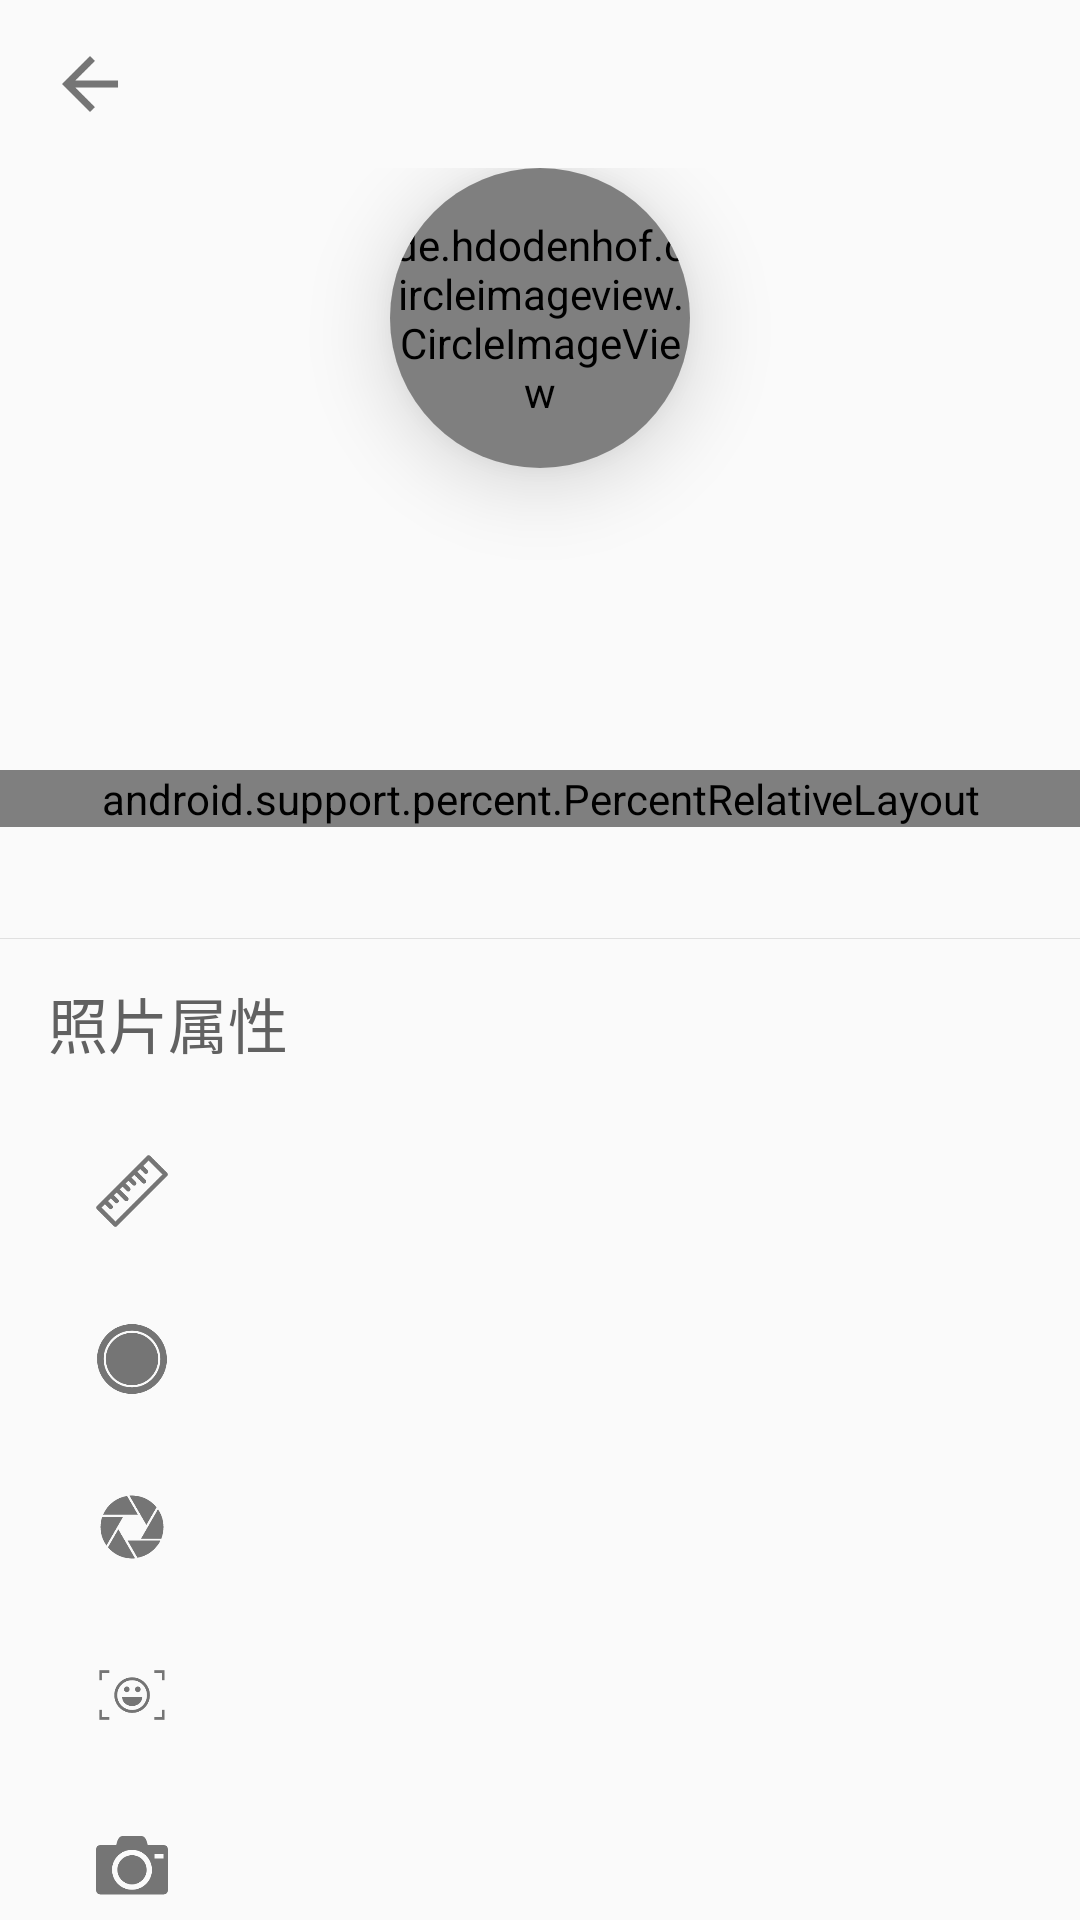

Screen size 1080px×1920px. Icon name, then its center in pixels as (x,y):
arrow back: (90,84)
